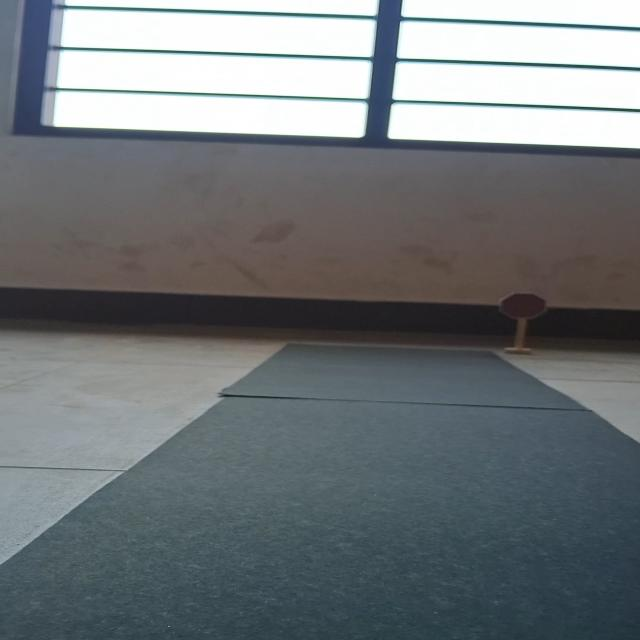Stop: (498, 292, 548, 320)
